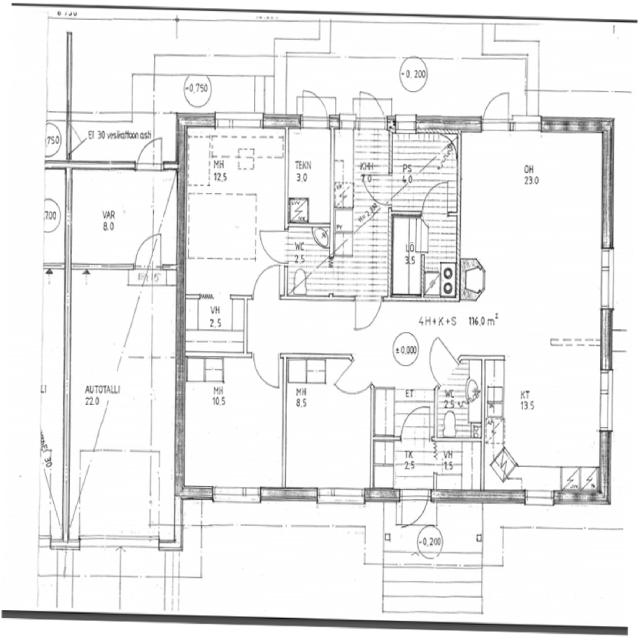door: (182, 349, 284, 494), (254, 223, 285, 301), (479, 88, 514, 134), (428, 335, 458, 388), (298, 88, 332, 132), (419, 177, 451, 220), (398, 402, 431, 443), (351, 292, 383, 334), (251, 350, 283, 392), (131, 232, 163, 274), (354, 90, 390, 126), (398, 488, 430, 528), (250, 262, 281, 302), (134, 136, 165, 174), (258, 226, 287, 266), (330, 357, 357, 398), (360, 172, 384, 204)
window: (206, 480, 266, 510), (313, 483, 369, 514), (597, 357, 616, 439), (598, 233, 616, 318), (73, 259, 133, 281), (72, 157, 138, 176), (212, 111, 266, 132), (519, 486, 560, 511), (542, 115, 590, 135), (508, 112, 545, 136), (395, 115, 417, 132), (339, 114, 356, 133)
zone: (458, 122, 610, 325), (484, 348, 610, 497), (182, 125, 286, 299), (180, 354, 283, 496), (282, 354, 372, 496), (67, 167, 177, 269), (76, 450, 175, 551), (391, 124, 458, 210), (199, 438, 273, 503), (288, 126, 333, 227), (181, 295, 250, 357), (286, 224, 336, 297), (390, 210, 425, 298), (432, 388, 482, 440), (332, 122, 354, 205)
